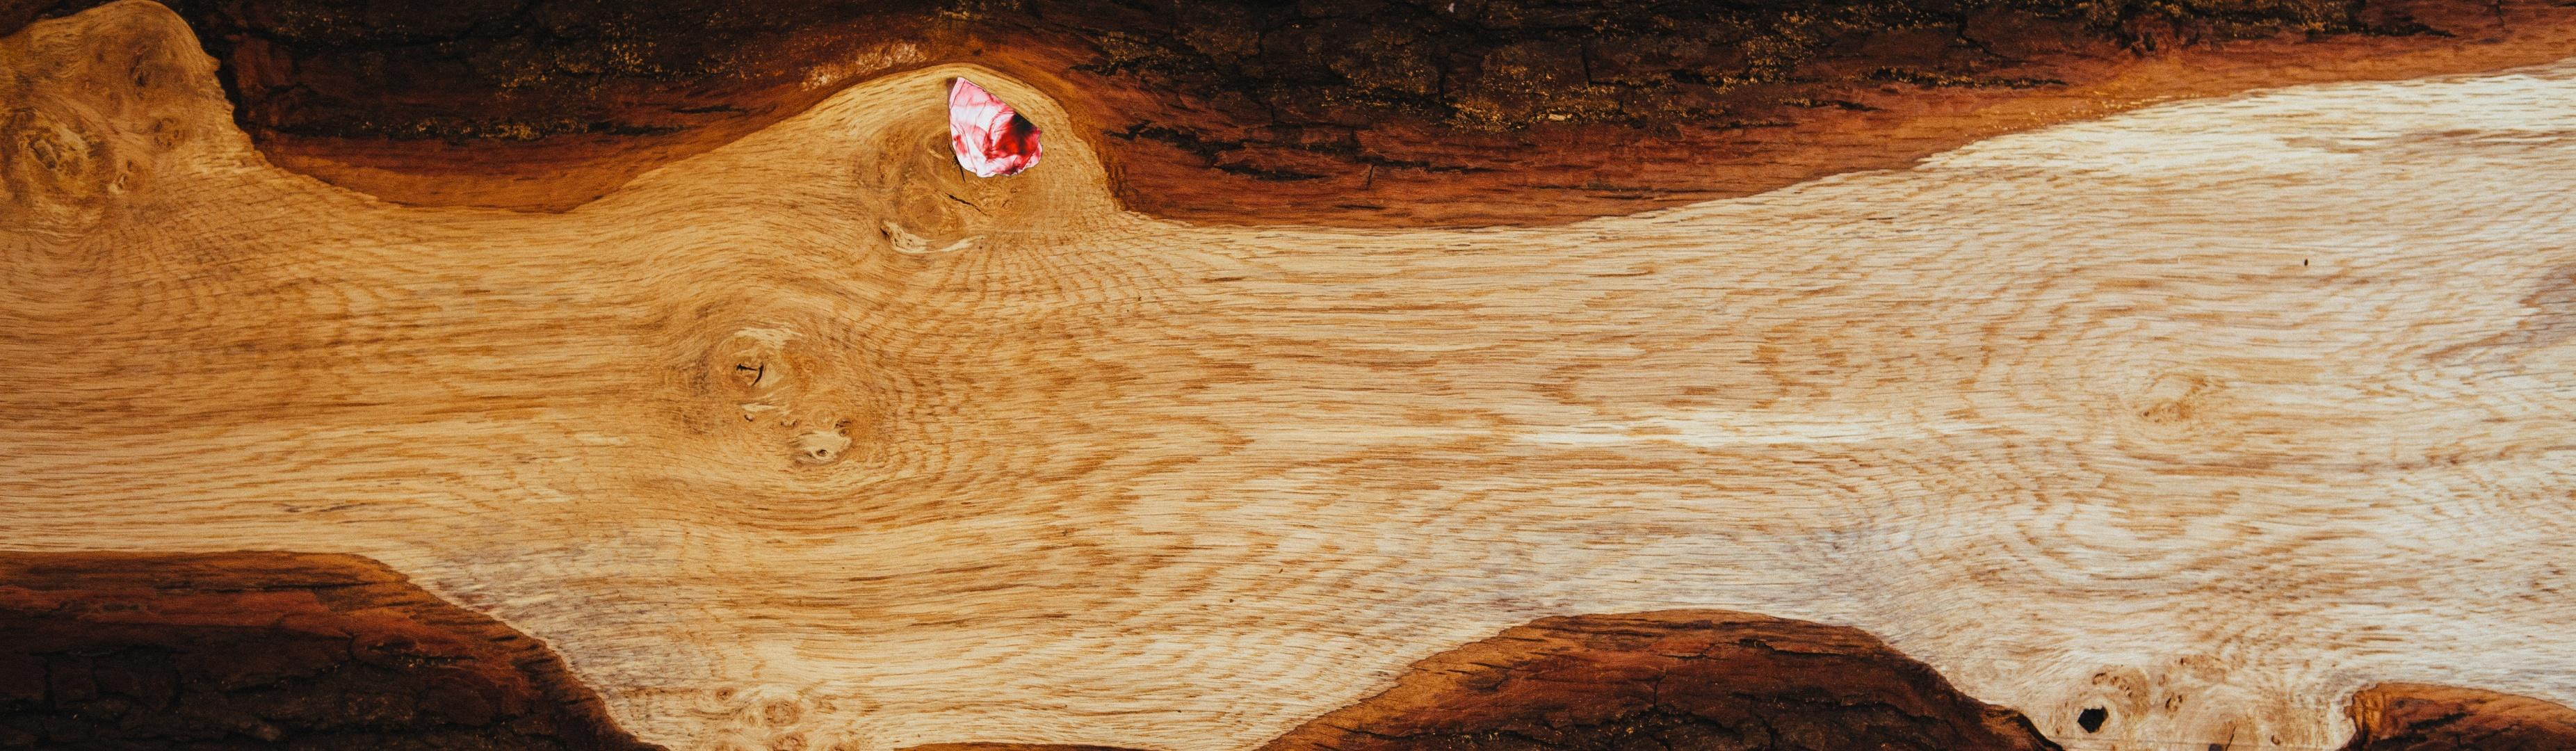plastic-bag: (896, 74, 1045, 216)
